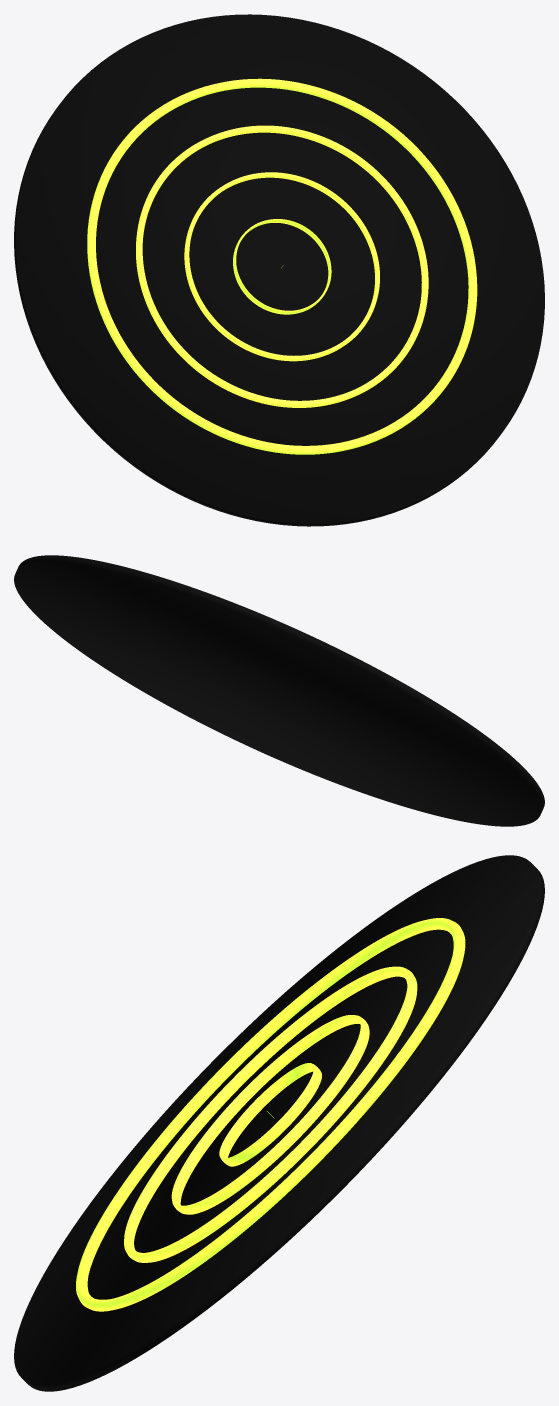
3 views of the same model, one above another, from view 1: azimuth 30°, elevation 25°; view 2: azimuth 150°, elevation 25°; view 3: azimuth 270°, elevation 25° (orthographic). The views are drawn at different scales.
Visible parts, largest first — view 1: pond, ring_4, ring_3, ring_2, ring_1; view 2: pond; view 3: pond, ring_4, ring_3, ring_2, ring_1.
Part boxes in pixels (<box>): pond: <box>14,14,544,526</box>; ring_4: <box>87,78,477,454</box>; ring_3: <box>136,125,428,407</box>; ring_2: <box>184,172,379,361</box>; ring_1: <box>233,219,331,314</box>; pond: <box>14,555,544,826</box>; pond: <box>14,855,544,1391</box>; ring_4: <box>76,918,465,1311</box>; ring_3: <box>124,966,417,1262</box>; ring_2: <box>171,1015,369,1214</box>; ring_1: <box>219,1063,321,1166</box>.
Size of the model in its own units: 2.83 by 2 by 2.08.
